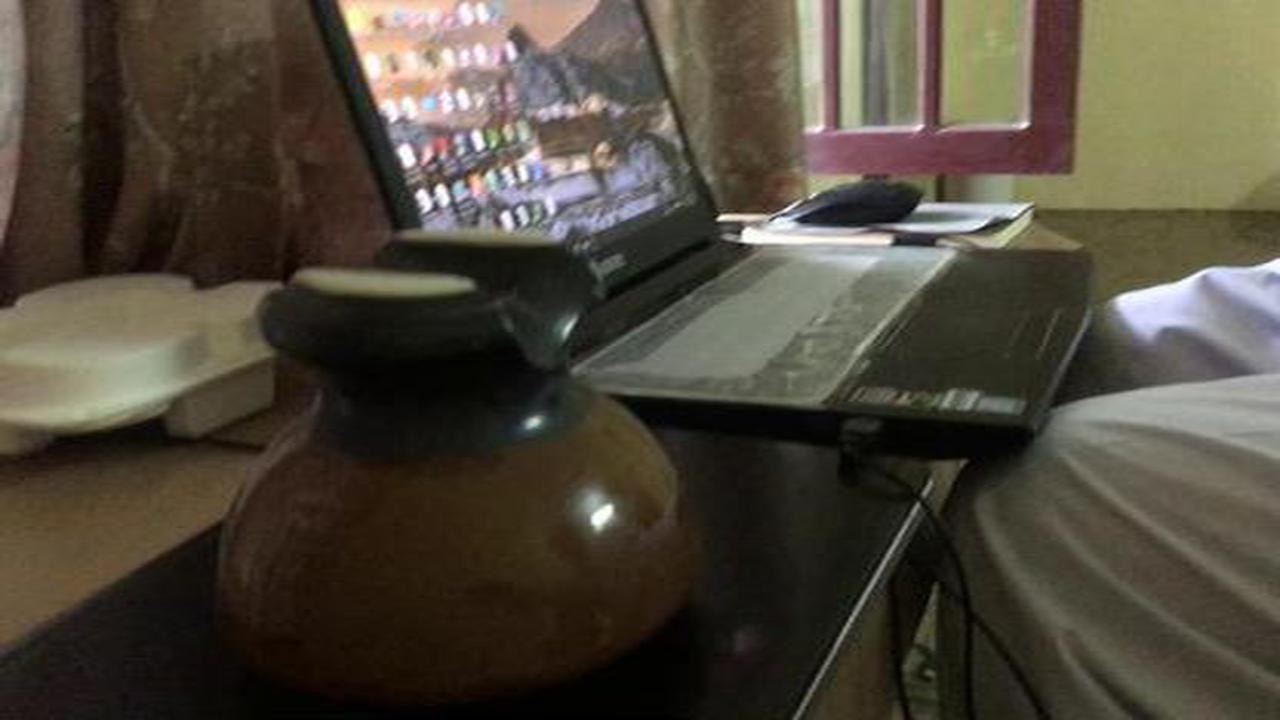insulator_pin: (182, 226, 736, 698)
